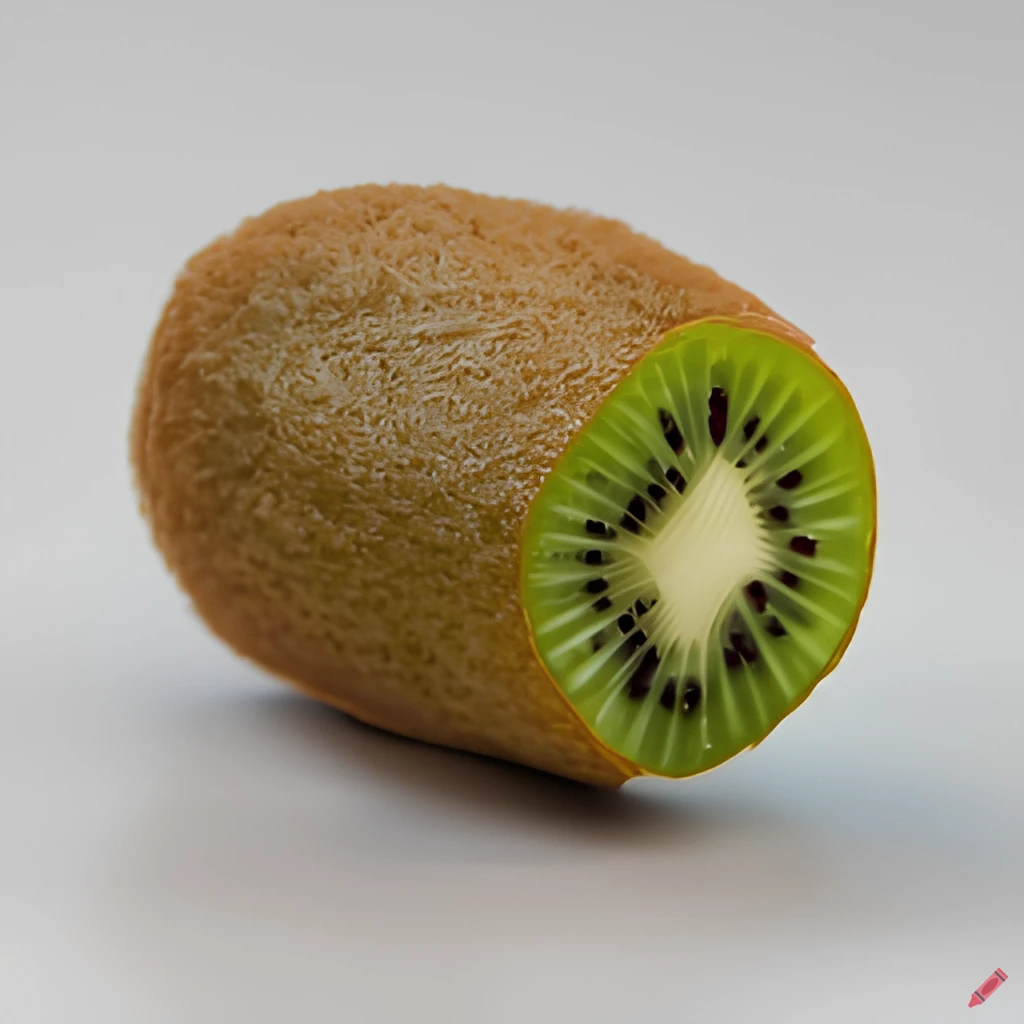Kiwi: (127, 130, 868, 806)
